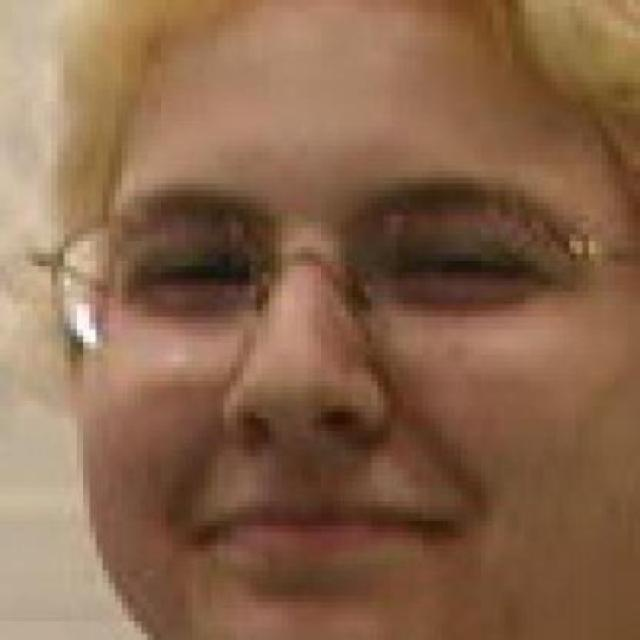drowsy: (388, 230, 530, 301), (128, 246, 249, 300)
